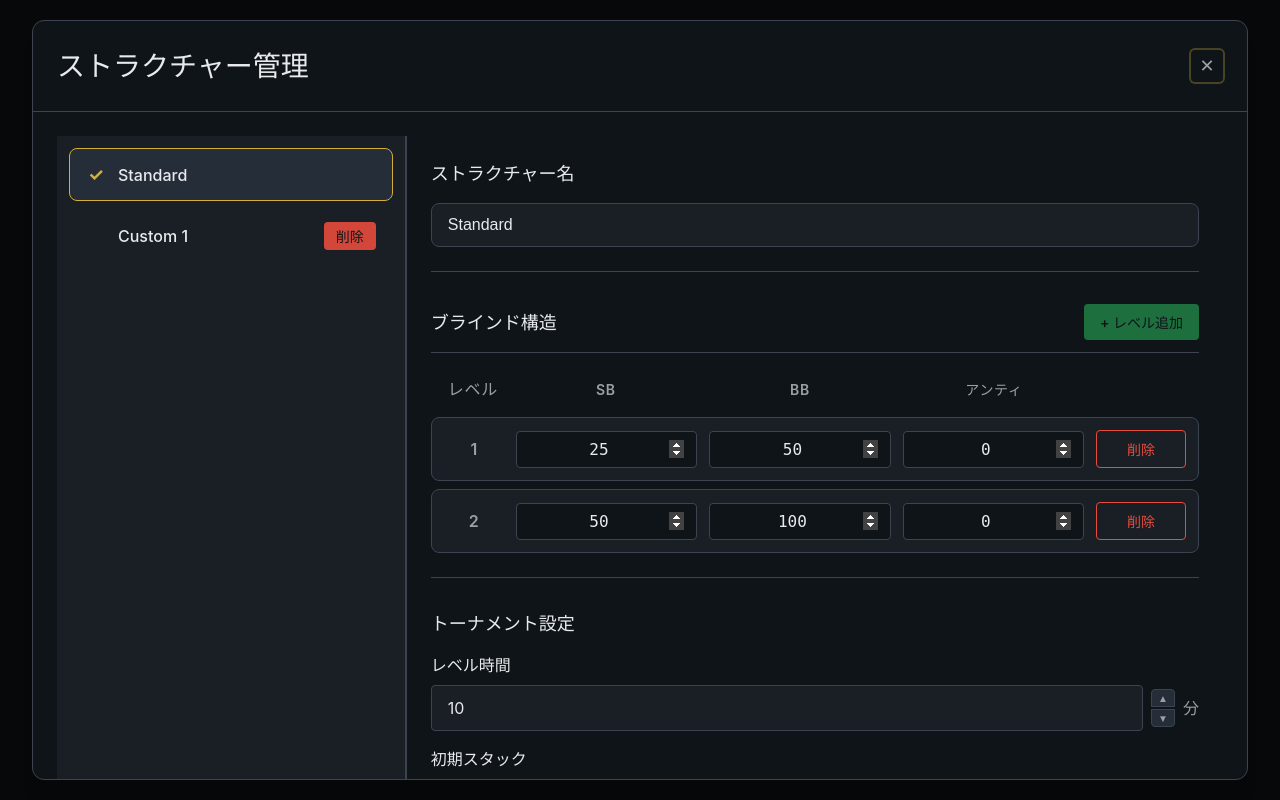
StructureManagementModal › ストラクチャー選択時、右側に表示される
Step 1. Click the button with test id "structure-item" showing "Custom 1 削除" → (153, 236), box [118,222,376,250]
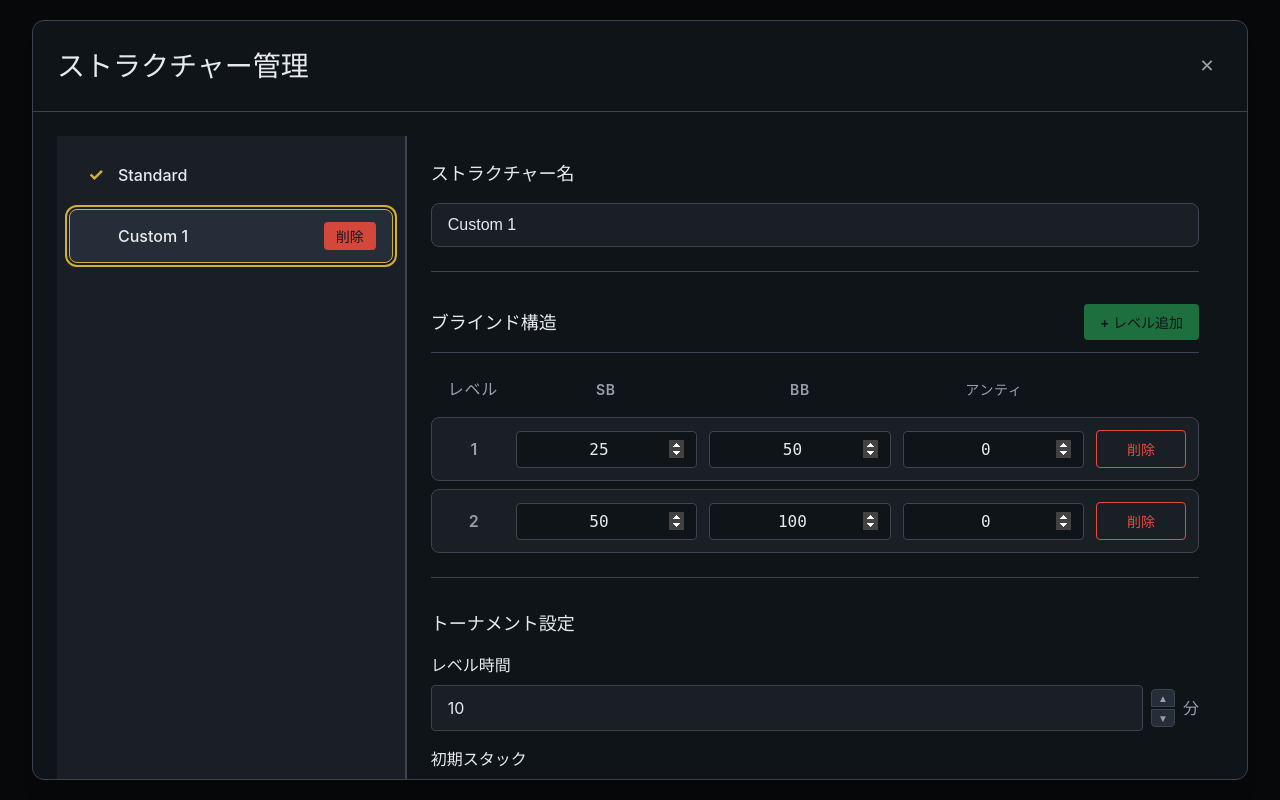
Expected: the field with test id "structure-name-input" holds "Custom 1", [431,203,1199,247]
